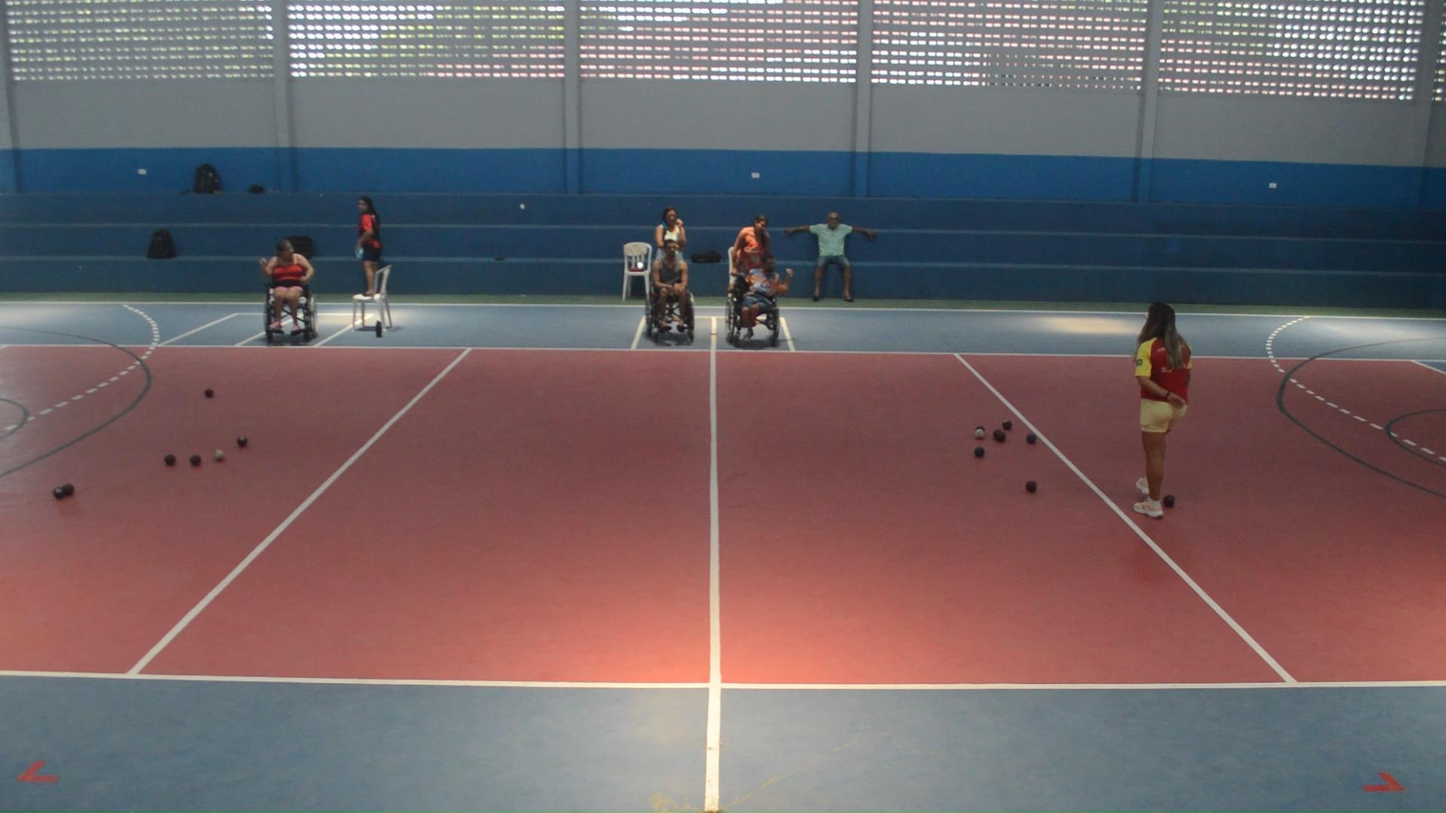blue_ball: (1027, 433, 1036, 444), (975, 447, 984, 456), (976, 426, 985, 431)
red_ball: (1026, 481, 1037, 492), (1164, 495, 1174, 506), (1003, 420, 1011, 429), (997, 433, 1006, 441), (993, 430, 1002, 438)
white_ball: (974, 429, 984, 439)
